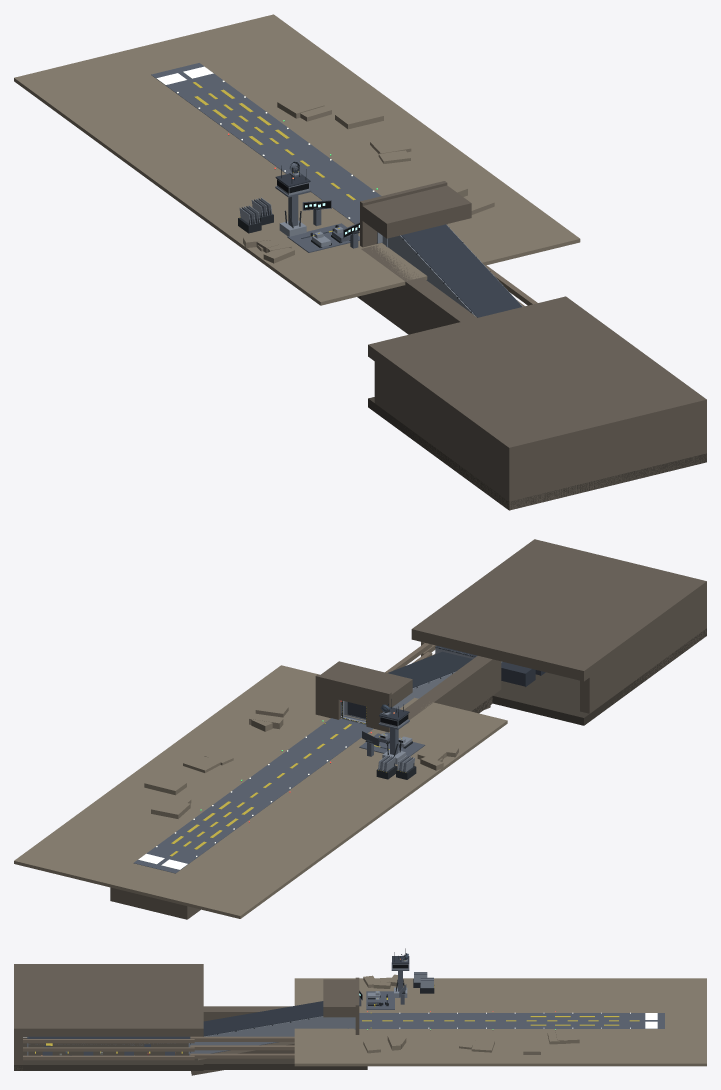
File: runway-site-l2.glb
The picture shows the model from 3 angles, top to bottom: view 1: azimuth 30°, elevation 25°; view 2: azimuth 150°, elevation 25°; view 3: azimuth 270°, elevation 25°; orthographic projection. The views are drawn at different scales.
Visible parts, largest first — view 1: groundPlate, rockRoof0, rockWallW (×2), rockWallN, stripBed, rampRoof, bermMass, rockFloor, rampWallL; view 2: groundPlate, rockRoof0, rockWallW (×2), stripBed, rockFloor, bermMass, rampRoof, stripPlinth, bermFace1, bermFace0, bermFace2; view 3: groundPlate, rockRoof0, rockFloor (×2), stripBed, rampRoof, rampWallR, rockStrata0 (×2), rockStrata2 (×2), rockStrata1 (×2), bermMass, rampUnderMass, rockWallW (+6 smaller).
Boxes of the visible parts, x1=… form: groundPlate: x1=14, y1=14, x2=580, y2=305; rockRoof0: x1=368, y1=296, x2=706, y2=459; rockWallW (×2): x1=360, y1=245, x2=502, y2=505; rockWallN: x1=502, y1=411, x2=706, y2=510; stripBed: x1=151, y1=63, x2=381, y2=223; rampRoof: x1=401, y1=224, x2=522, y2=317; bermMass: x1=362, y1=185, x2=471, y2=238; rockFloor: x1=368, y1=397, x2=706, y2=510; rampWallL: x1=382, y1=235, x2=476, y2=316; groundPlate: x1=14, y1=665, x2=507, y2=918; rockRoof0: x1=411, y1=539, x2=706, y2=681; rockWallW (×2): x1=404, y1=596, x2=701, y2=719; stripBed: x1=133, y1=718, x2=373, y2=873; rockFloor: x1=492, y1=628, x2=706, y2=725; bermMass: x1=321, y1=661, x2=412, y2=707; rampRoof: x1=388, y1=651, x2=472, y2=687; stripPlinth: x1=110, y1=887, x2=200, y2=919; bermFace1: x1=315, y1=674, x2=340, y2=719; bermFace0: x1=366, y1=686, x2=391, y2=732; bermFace2: x1=338, y1=680, x2=367, y2=706; groundPlate: x1=294, y1=978, x2=706, y2=1066; rockRoof0: x1=14, y1=964, x2=203, y2=1036; rockFloor (×2): x1=14, y1=1036, x2=367, y2=1070; stripBed: x1=359, y1=1013, x2=664, y2=1028; rampRoof: x1=203, y1=1001, x2=323, y2=1036; rampWallR: x1=190, y1=1016, x2=354, y2=1053; rockStrata0 (×2): x1=23, y1=1053, x2=294, y2=1060; rockStrata2 (×2): x1=23, y1=1036, x2=294, y2=1043; rockStrata1 (×2): x1=23, y1=1045, x2=294, y2=1051; bermMass: x1=323, y1=979, x2=355, y2=1017; rampUnderMass: x1=191, y1=1042, x2=294, y2=1075; rockWallW: x1=203, y1=1006, x2=290, y2=1021.
Bounding box in the file's own units: 98.03 × 43.7 × 313.
